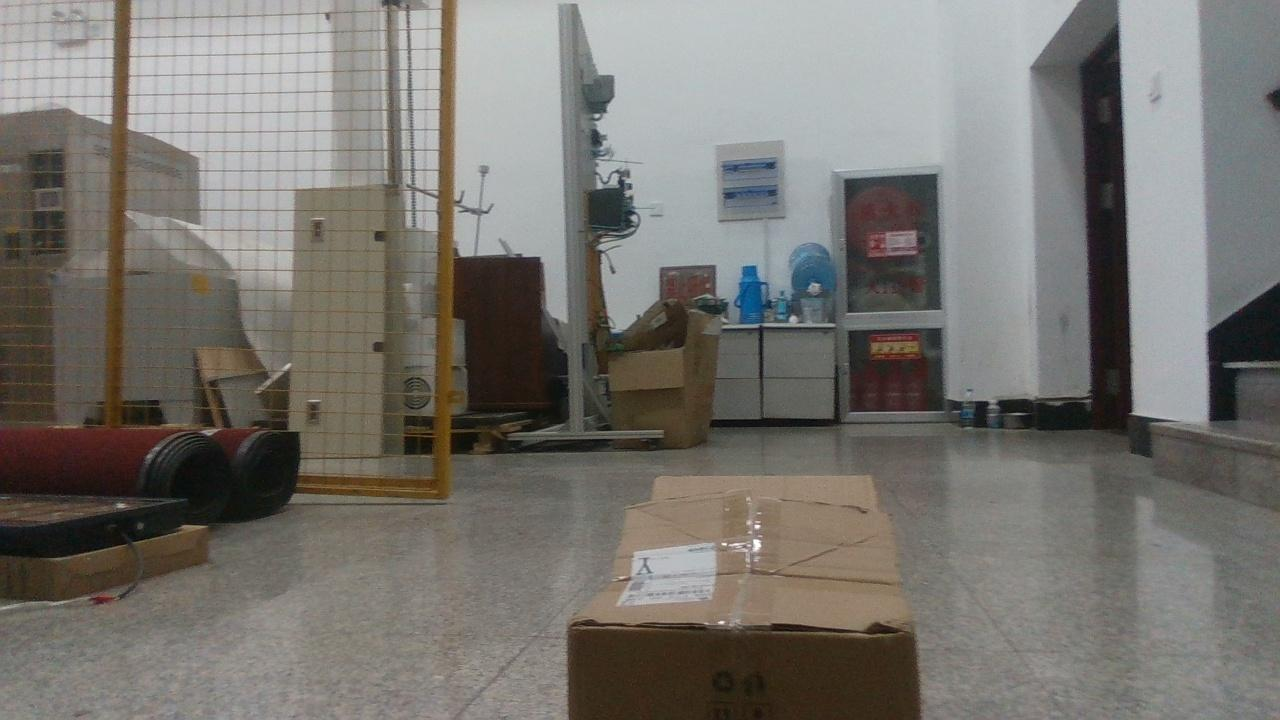box: (570, 475, 920, 719)
